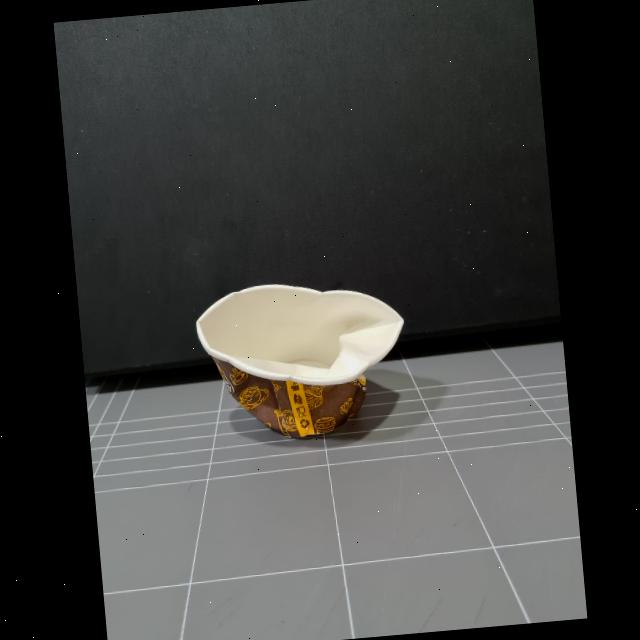trash: (187, 265, 418, 456)
